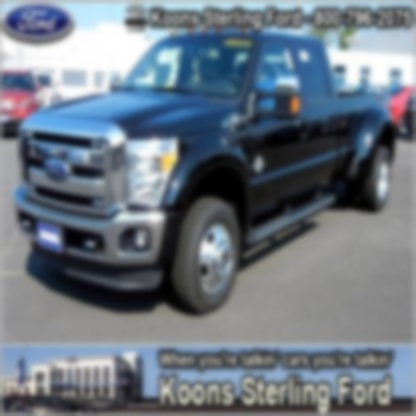Vehicle: (14, 27, 396, 311)
